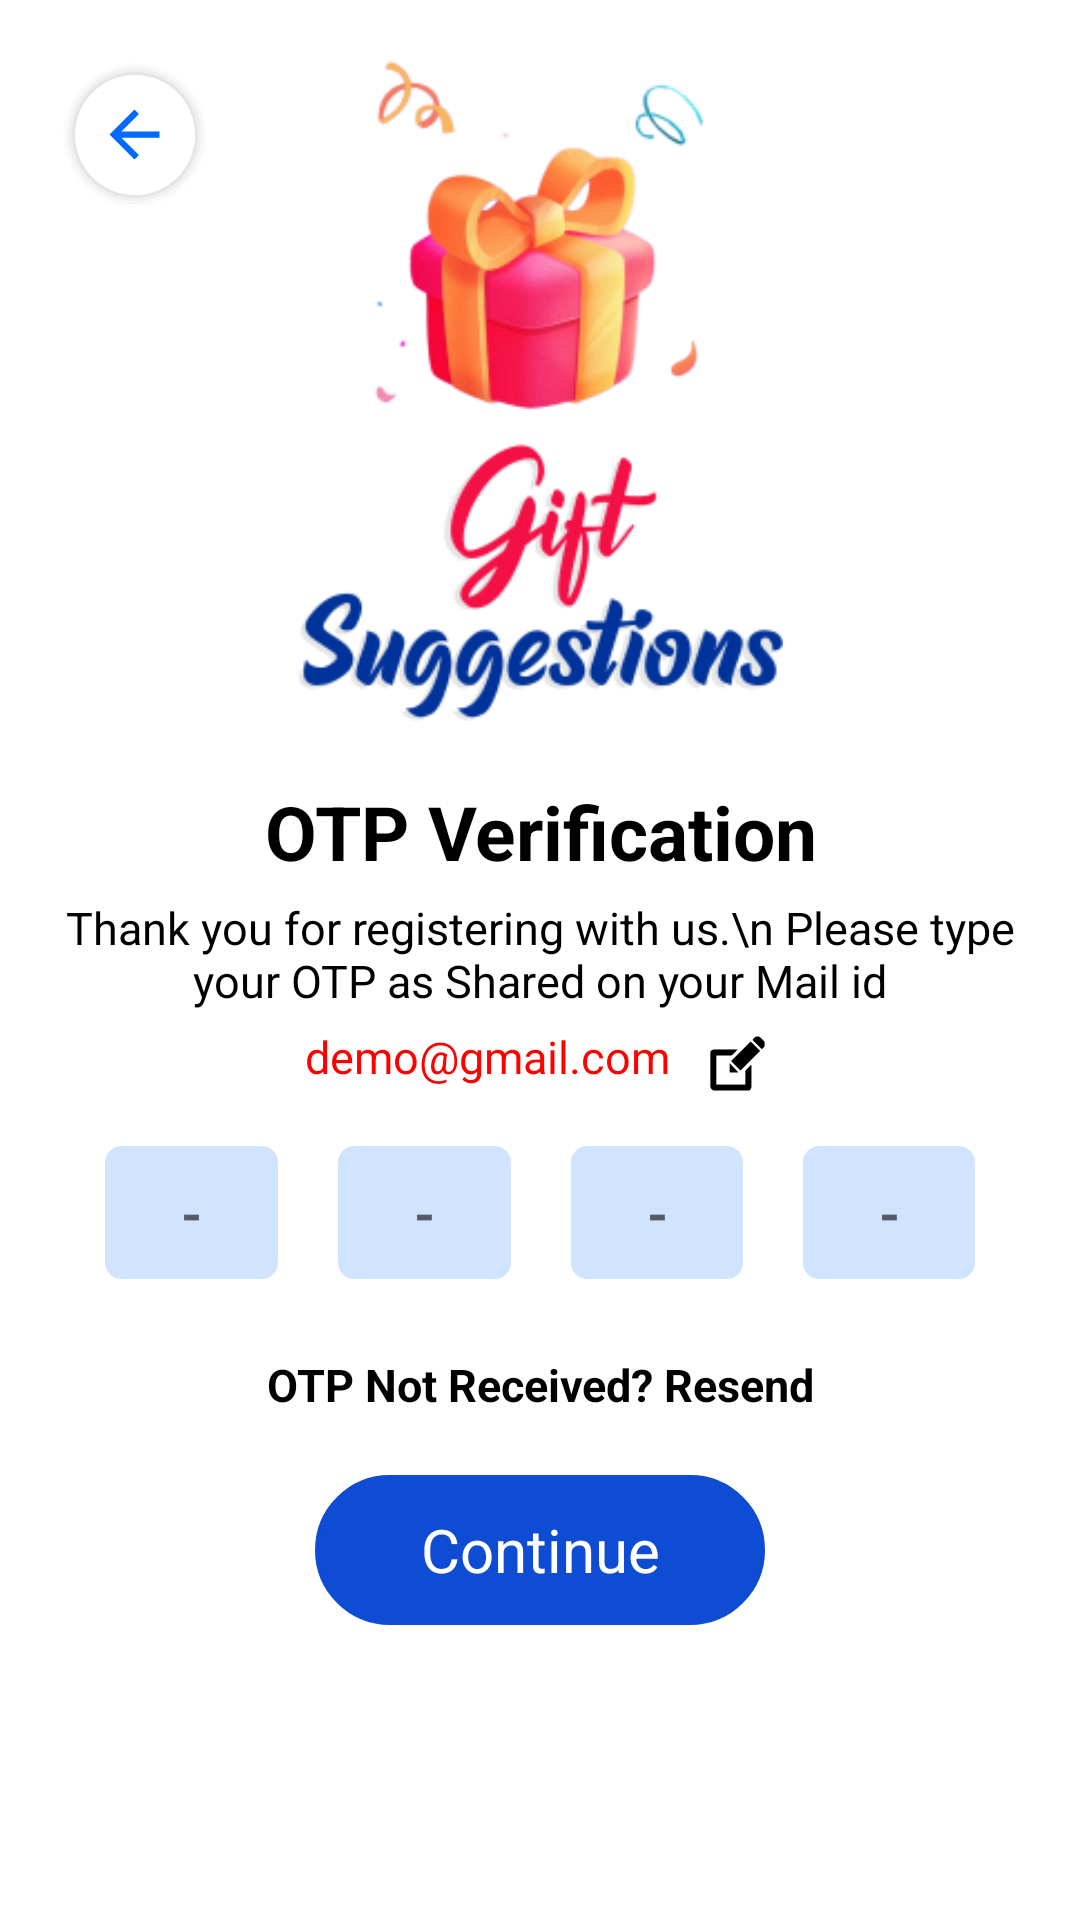

Screen size 1080x1920. Icon name, then its center in pixels as [x,y]:
arrow back: [134,134]
edit: [737,1063]
